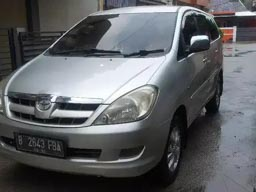plat: (16, 134, 64, 151)
